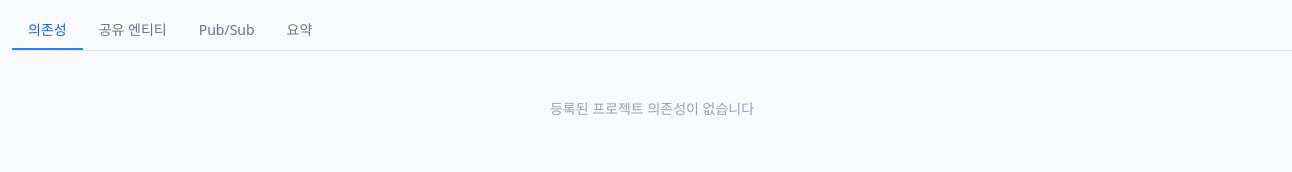
it: CrossProjectTabs - empty state › should show empty pub/sub when clicking pub-sub tab
Pub/Sub 탭 클릭
Click the tab with test id "tab-pub-sub": (227,31) x1=183 y1=12 x2=271 y2=50
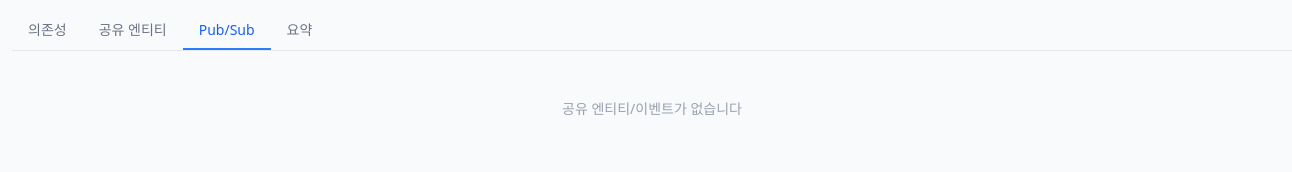
Result: the text "공유 엔티티/이벤트가 없습니다" is shown at x1=562 y1=99 x2=742 y2=118
